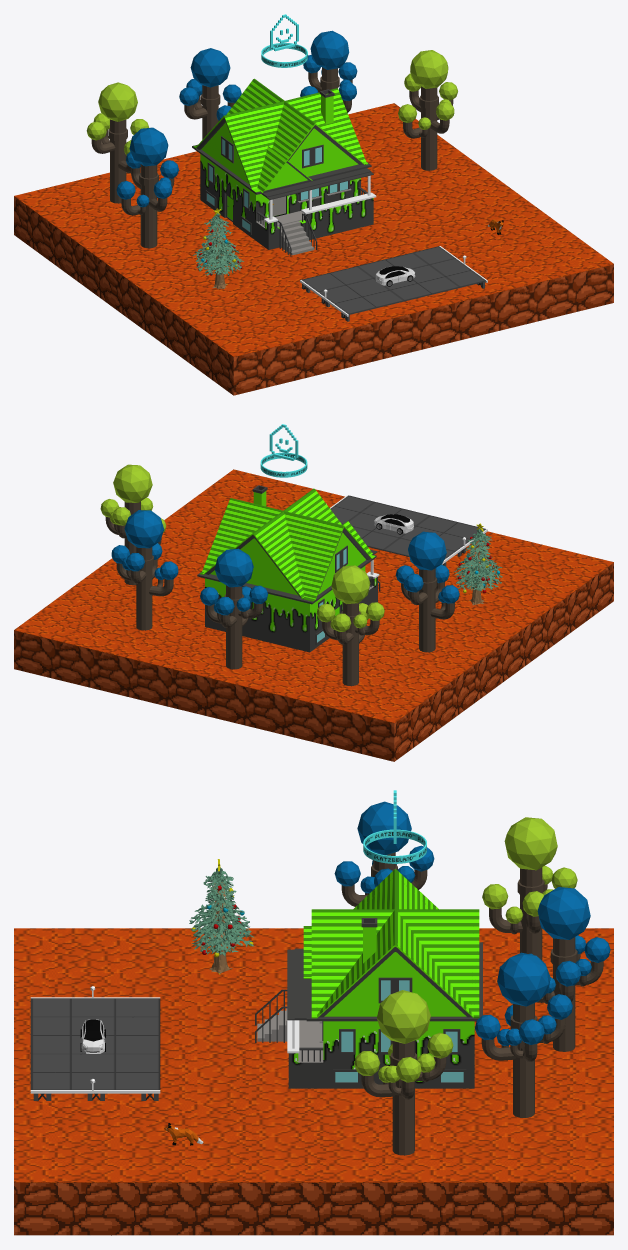
The picture shows the model from 3 angles, top to bottom: view 1: azimuth 30°, elevation 25°; view 2: azimuth 150°, elevation 25°; view 3: azimuth 270°, elevation 25°; orthographic projection. The views are drawn at different scales.
Parts seen in each view (by area): view 1: Cube.001, Cube.754, OBJRANDOM_CHRISTMAS_TREE, TYPE_PREMIUM, VEHICLES_TESLA; view 2: Cube.001, Cube.754, OBJRANDOM_CHRISTMAS_TREE, TYPE_PREMIUM, VEHICLES_TESLA; view 3: Cube.001, Cube.754, OBJRANDOM_CHRISTMAS_TREE, TYPE_PREMIUM, VEHICLES_TESLA.
Boxes of the visible parts, left/top/right/bottom form: Cube.001: left=14, top=30, right=613, bottom=395; Cube.754: left=192, top=78, right=376, bottom=256; OBJRANDOM_CHRISTMAS_TREE: left=192, top=208, right=243, bottom=288; TYPE_PREMIUM: left=261, top=14, right=307, bottom=67; VEHICLES_TESLA: left=375, top=266, right=415, bottom=286; Cube.001: left=14, top=464, right=613, bottom=761; Cube.754: left=197, top=485, right=380, bottom=652; OBJRANDOM_CHRISTMAS_TREE: left=454, top=523, right=502, bottom=605; TYPE_PREMIUM: left=260, top=424, right=307, bottom=477; VEHICLES_TESLA: left=374, top=514, right=413, bottom=534; Cube.001: left=14, top=801, right=613, bottom=1235; Cube.754: left=255, top=869, right=482, bottom=1088; OBJRANDOM_CHRISTMAS_TREE: left=189, top=859, right=254, bottom=974; TYPE_PREMIUM: left=363, top=790, right=426, bottom=863; VEHICLES_TESLA: left=80, top=1019, right=105, bottom=1053.
Bounding box in the file's own units: 4000 × 2383 × 4000.
Materials: 34 (6 with a texture image).
